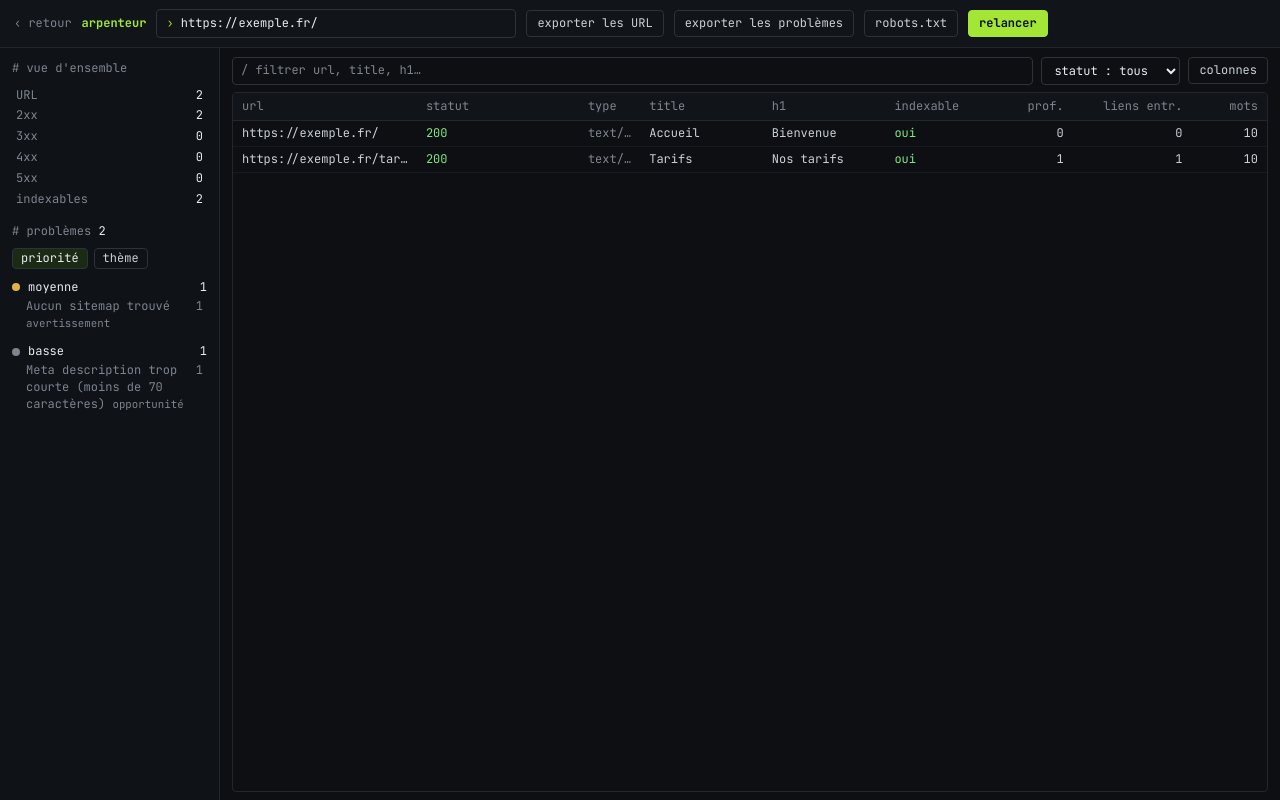
Test case: un clic sur un code filtre le tableau sur ses URL
Later steps or results of the test are not shown.
Expected: the text "https://exemple.fr/tarifs" is shown, [242,151,408,168]
Expected: the number of rows is 3, [233,93,1267,121]; [233,121,1267,147]; [233,147,1267,173]
Click the button named "Meta description trop courte (moins de 70 caractères), opportunité, 1".
click(110, 387)  # box [12,360,207,415]
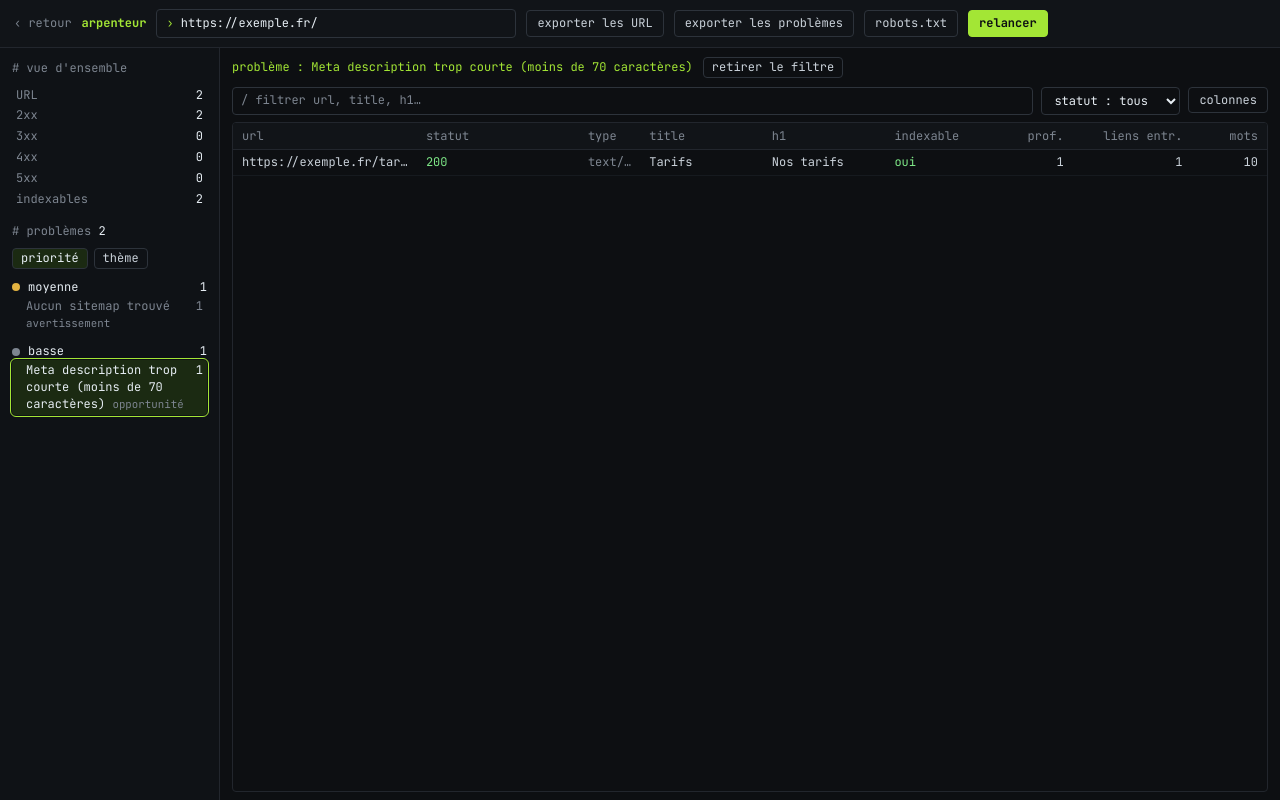
Expected: the number of rows is 2, [233,123,1267,150]; [233,150,1267,176]
Expected: the message named "filtre actif" shows "Meta description trop courte", [232,59,693,75]
